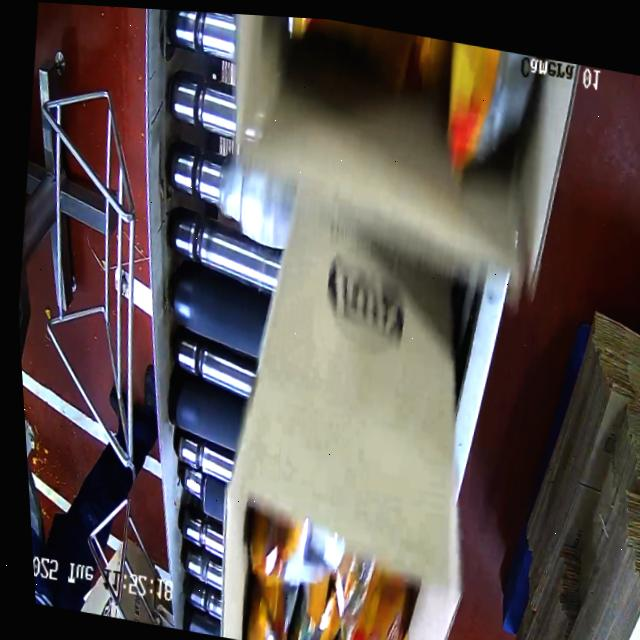FRENCH_CHEESE: (275, 16, 529, 153), (223, 507, 418, 640)
